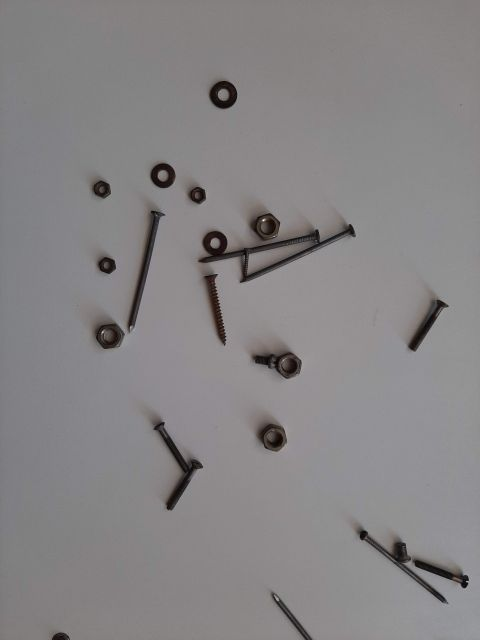gwozdz: (335, 525, 445, 615), (235, 215, 355, 295), (185, 215, 325, 275), (125, 205, 175, 335), (245, 565, 325, 635)
nakretka: (65, 305, 135, 355), (245, 395, 295, 455), (65, 155, 105, 205), (265, 335, 305, 385), (245, 185, 275, 245), (75, 245, 125, 275), (175, 175, 215, 205)
podkladka: (125, 135, 185, 185), (185, 215, 235, 265), (185, 65, 245, 105)
sruba: (125, 445, 215, 535), (385, 275, 455, 355), (135, 395, 205, 475)
